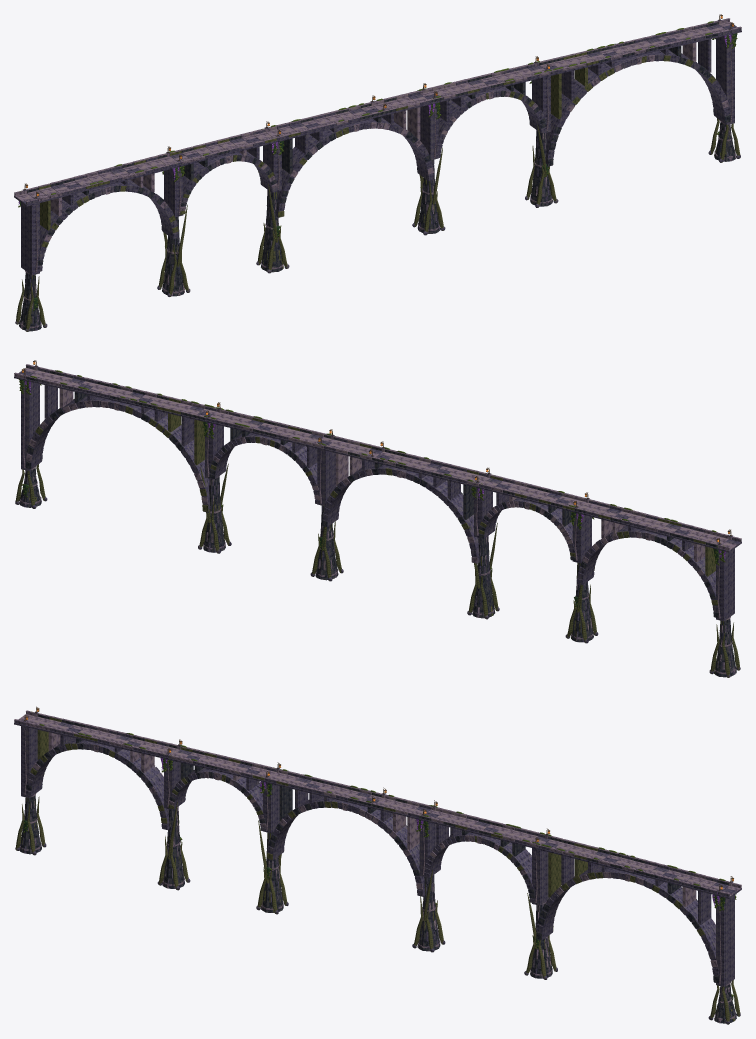
The model's file is stone_viaduct_open.glb.
3 views of the same model, one above another, from view 1: azimuth 30°, elevation 25°; view 2: azimuth 150°, elevation 25°; view 3: azimuth 330°, elevation 25° (orthographic).
Visible parts, largest first — view 1: stone_viaduct_open_stone, stone_viaduct_open_stone_light, stone_viaduct_open_stone_wet, stone_viaduct_open_stone_lichen, stone_viaduct_open_moss; view 2: stone_viaduct_open_stone, stone_viaduct_open_stone_light, stone_viaduct_open_stone_wet, stone_viaduct_open_stone_lichen, stone_viaduct_open_moss; view 3: stone_viaduct_open_stone, stone_viaduct_open_stone_light, stone_viaduct_open_stone_wet, stone_viaduct_open_stone_lichen, stone_viaduct_open_moss.
Boxes of the visible parts, x1=… form: stone_viaduct_open_stone: x1=14, y1=19, x2=741, y2=331; stone_viaduct_open_stone_light: x1=14, y1=18, x2=741, y2=328; stone_viaduct_open_stone_wet: x1=19, y1=22, x2=736, y2=331; stone_viaduct_open_stone_lichen: x1=16, y1=52, x2=740, y2=331; stone_viaduct_open_moss: x1=18, y1=19, x2=737, y2=310; stone_viaduct_open_stone: x1=14, y1=365, x2=741, y2=677; stone_viaduct_open_stone_light: x1=14, y1=364, x2=741, y2=674; stone_viaduct_open_stone_wet: x1=19, y1=371, x2=736, y2=677; stone_viaduct_open_stone_lichen: x1=15, y1=398, x2=739, y2=677; stone_viaduct_open_moss: x1=18, y1=367, x2=733, y2=639; stone_viaduct_open_stone: x1=14, y1=712, x2=741, y2=1024; stone_viaduct_open_stone_light: x1=14, y1=710, x2=741, y2=1023; stone_viaduct_open_stone_wet: x1=20, y1=714, x2=736, y2=1023; stone_viaduct_open_stone_lichen: x1=16, y1=717, x2=740, y2=1024; stone_viaduct_open_moss: x1=23, y1=711, x2=736, y2=998.
Bounding box in the file's own units: 420 × 80 × 13.
10 materials, 10 textured.
